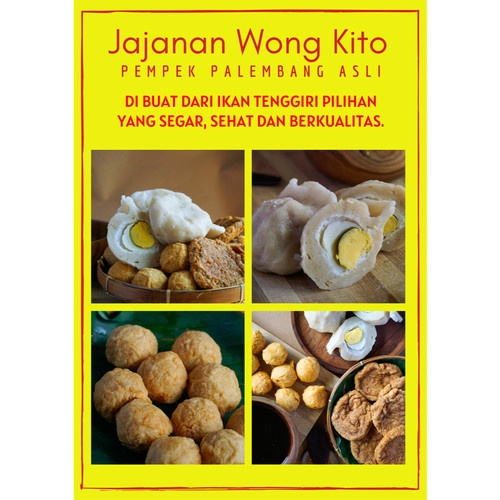pempek: (253, 309, 406, 465), (93, 322, 245, 465), (254, 178, 405, 289), (104, 187, 244, 292)
